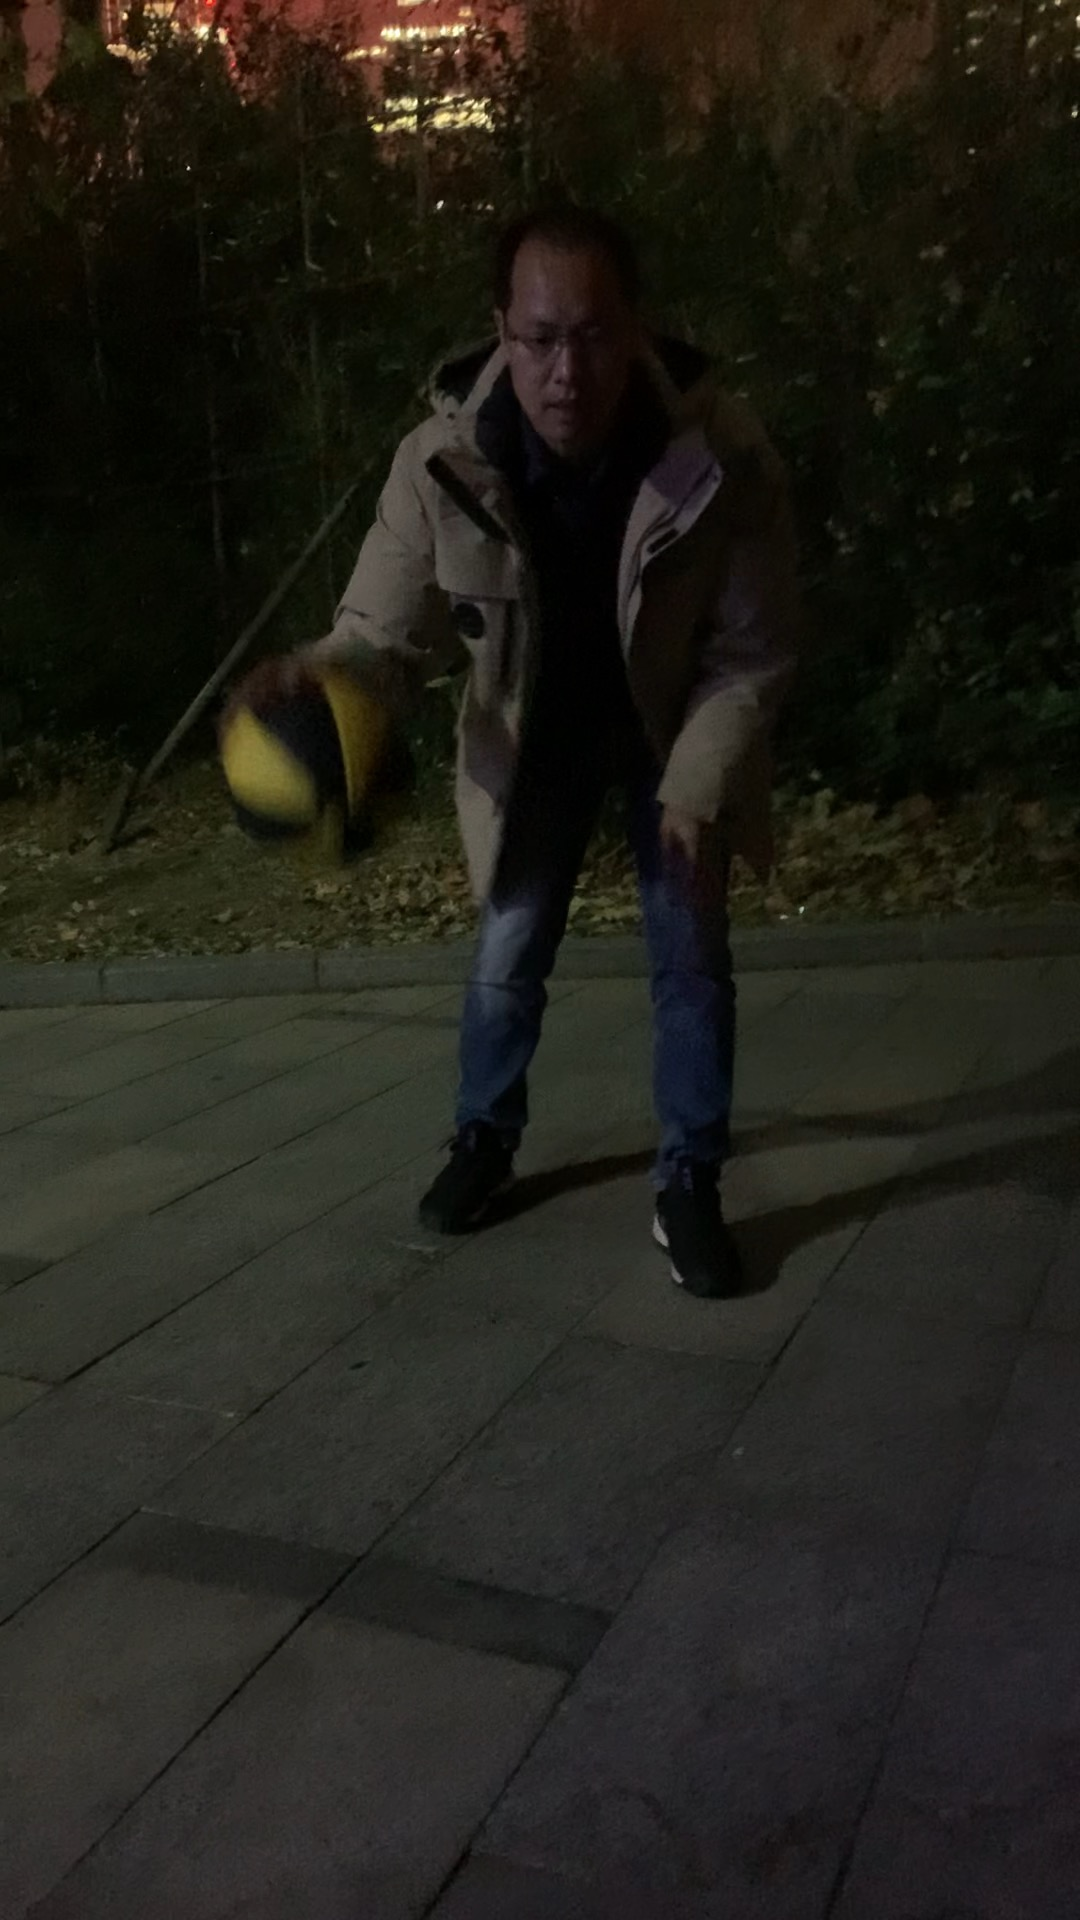ball: (218, 676, 413, 862)
